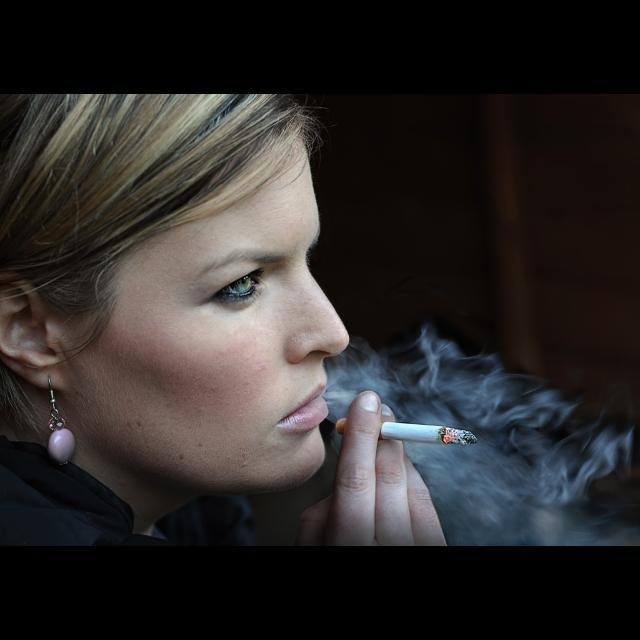rokok: (328, 415, 488, 453)
